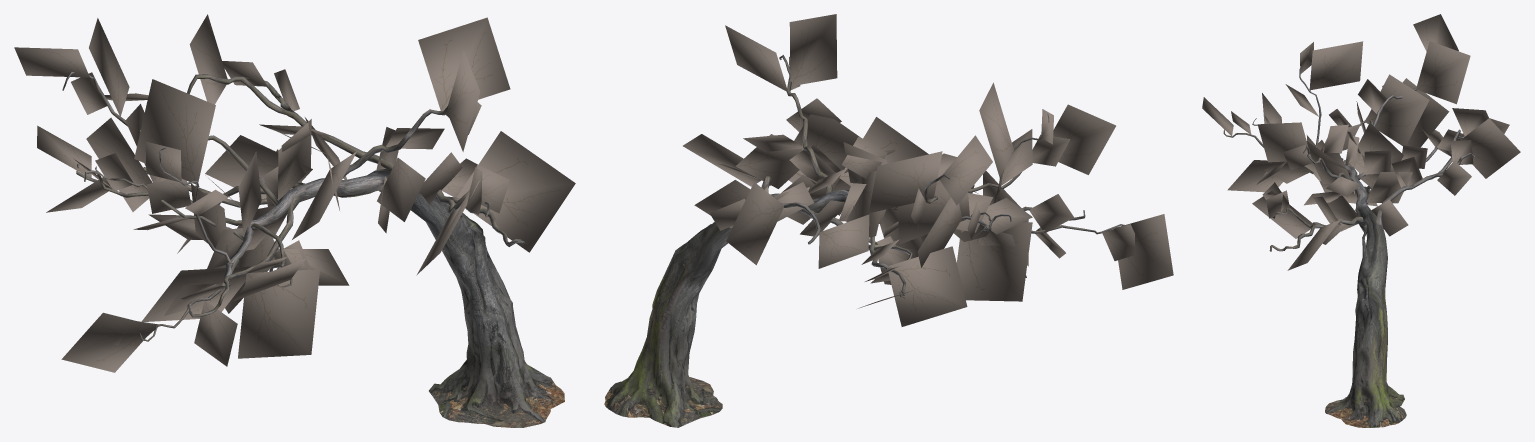
File: sm_TreeDead_01_02.fbx
3 renders of one model, left to right at view 1: azimuth 30°, elevation 25°; view 2: azimuth 150°, elevation 25°; view 3: azimuth 270°, elevation 25°, orthographic. The views are drawn at different scales.
Parts seen in each view (by area): view 1: sm_TreeDead_01_02_LOD0; view 2: sm_TreeDead_01_02_LOD0; view 3: sm_TreeDead_01_02_LOD0.
Boxes of the visible parts, bbox=[...] form: sm_TreeDead_01_02_LOD0: bbox=[14, 14, 575, 427]; sm_TreeDead_01_02_LOD0: bbox=[604, 14, 1173, 427]; sm_TreeDead_01_02_LOD0: bbox=[1202, 14, 1520, 427].
Size of the model in its own units: 651 by 502 by 463.
